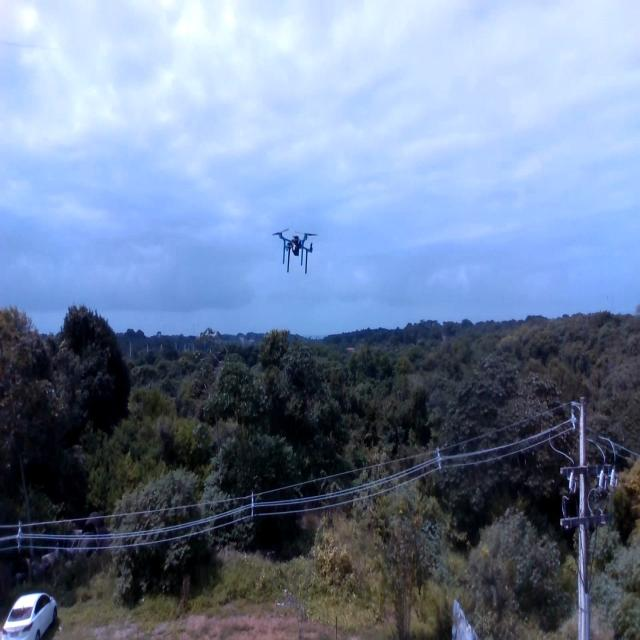-uav-: (271, 209, 320, 280)
